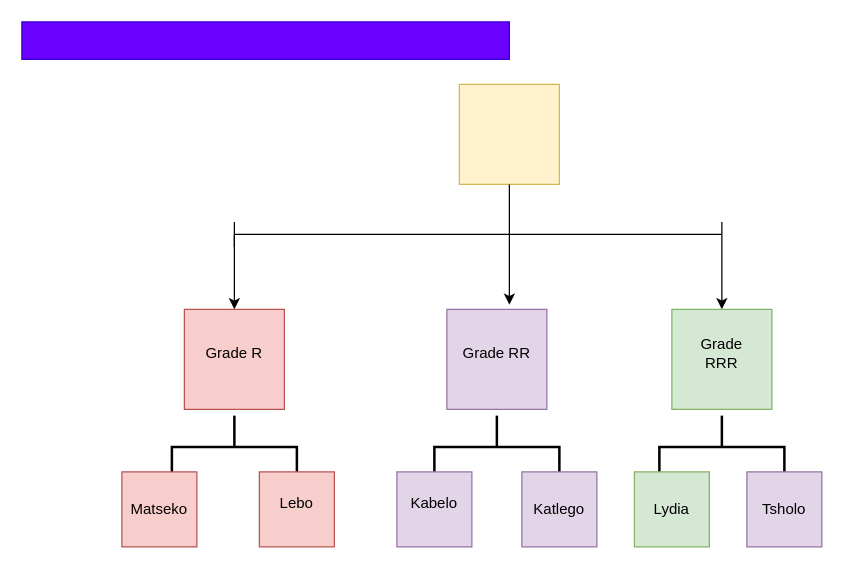
The diagram is 844 pixels wide and 569 high, and some of its shapes have lost their labels. Each missing label, with the centre of its shape:
"Kiddies Time Day Care Company Employees" belongs at point 265,40.
"Matron" belongs at point 508,133.
